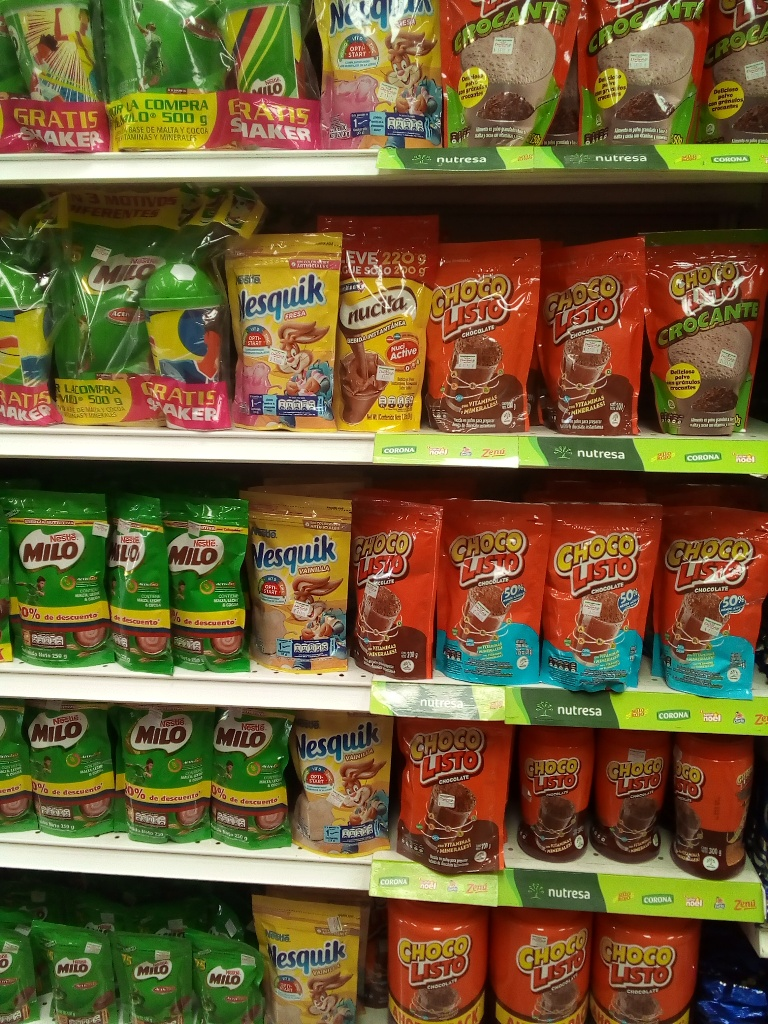COL0170102DYP25000: (650, 236, 765, 436)
COL0170103TRR00100: (384, 896, 489, 1022)
COL0170103TRR30000: (521, 731, 588, 871)
COL0170104DYP20000: (439, 499, 546, 685)
COL0170203DYP10000: (31, 920, 114, 1024)
COL0170203DYP50000: (47, 194, 150, 430)
COL0170305DYP20000: (320, 5, 431, 146)
COL0170306DYP20000: (290, 716, 399, 859)
